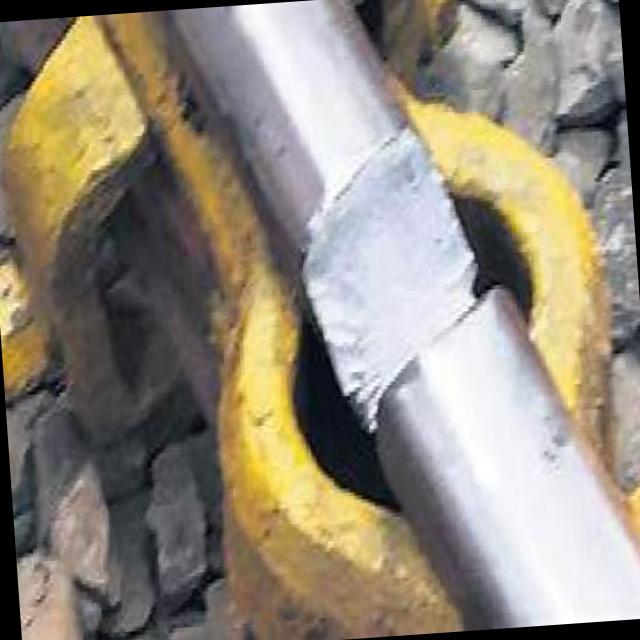defective: (139, 64, 640, 591)
